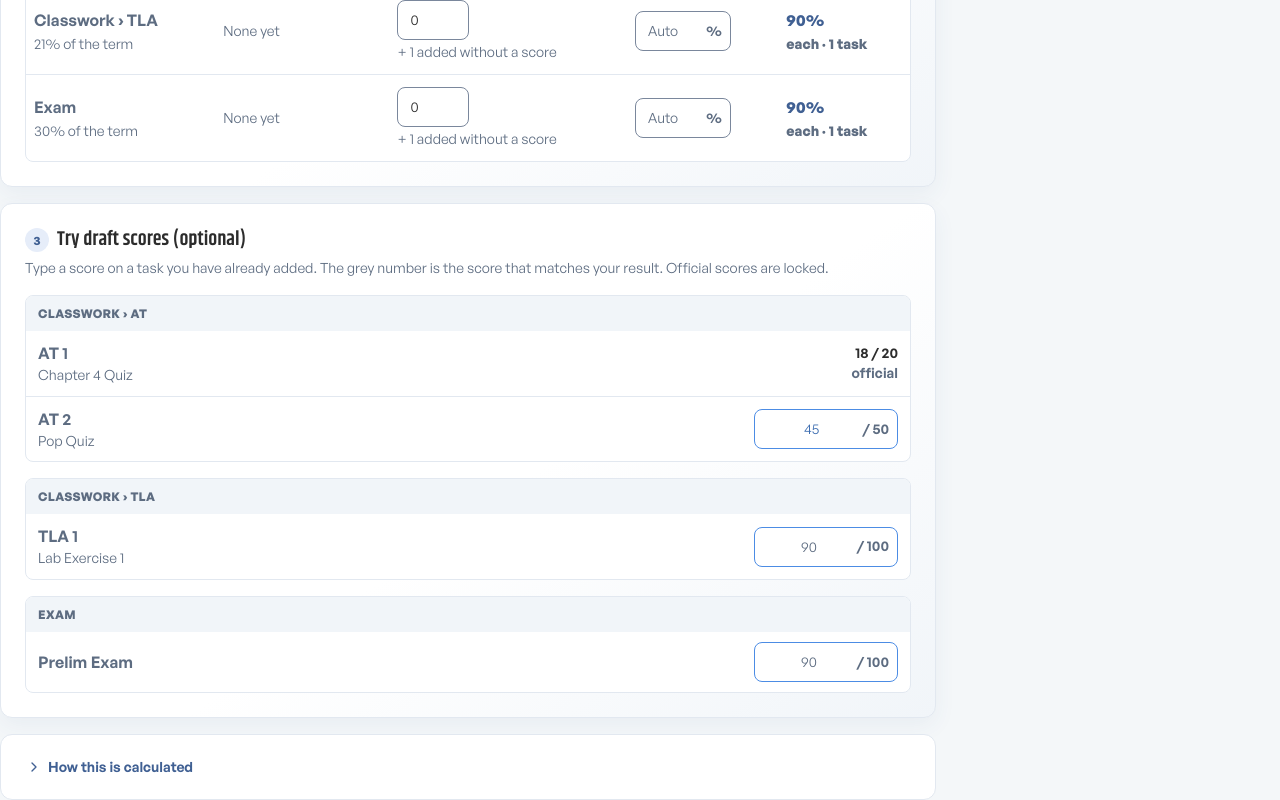
Test: draft scores › feeds the result card and the expected gauge, not the official gauge
(page scrolled)
Type "100" into the field labelled "TLA 1 Lab Exercise 1 / 100" at (806, 547), box x1=755 y1=527 x2=857 y2=567
(page scrolled)
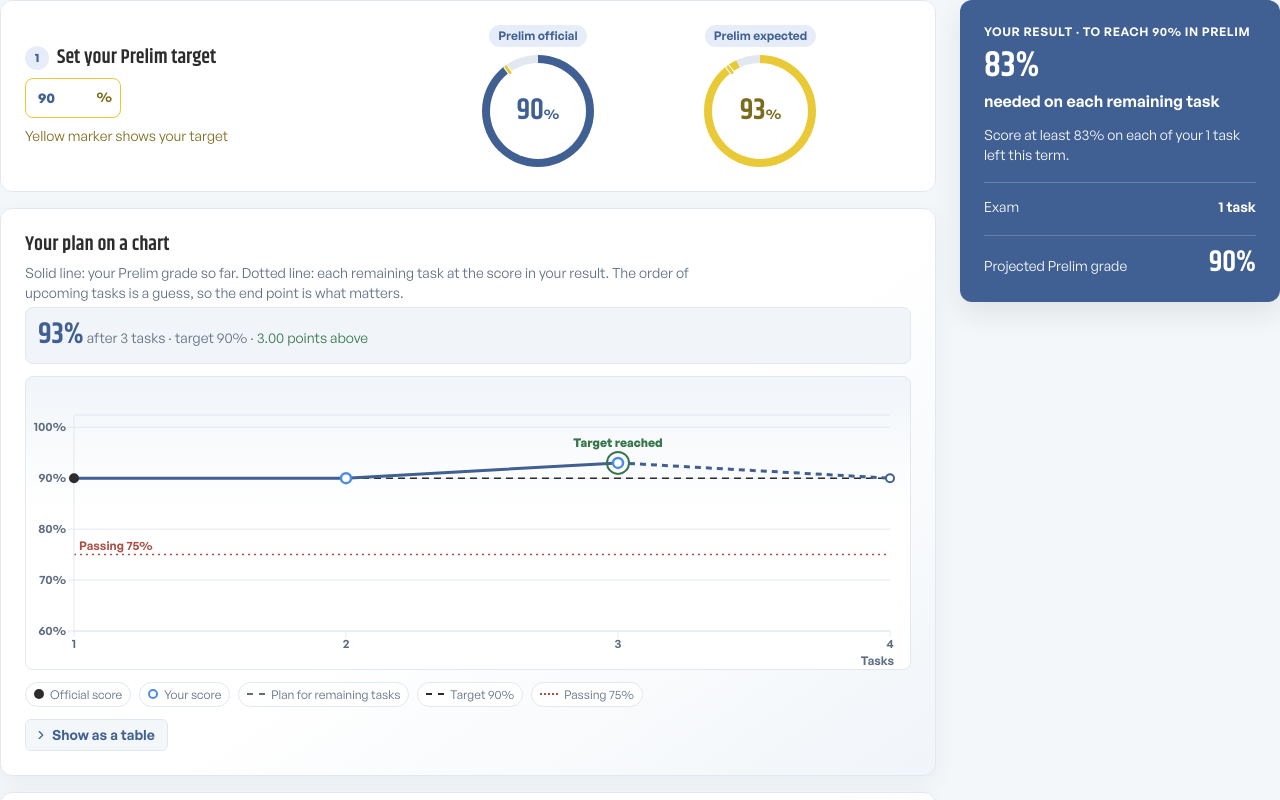
Check: the element labelled "Your result" shows "Score at least 83% on each of your 1 task left", box x1=984 y1=126 x2=1240 y2=164
